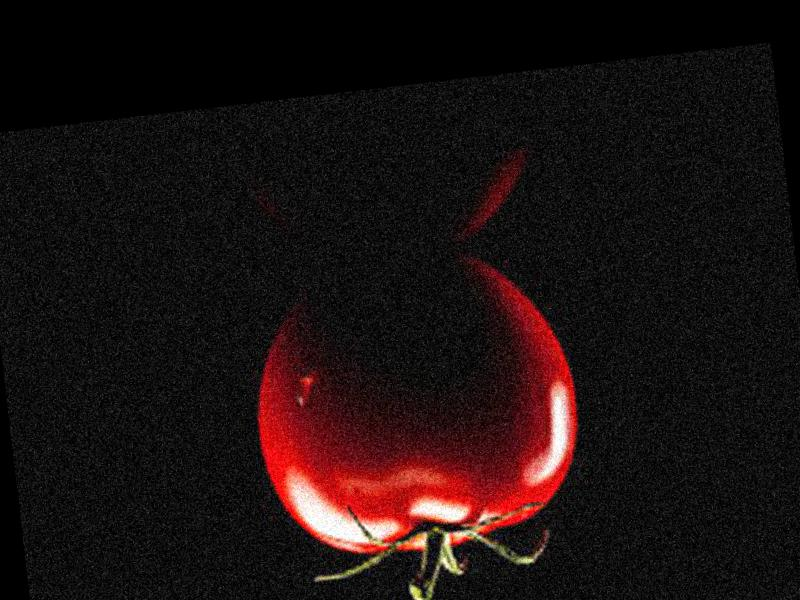Tomato: (242, 251, 590, 575)
